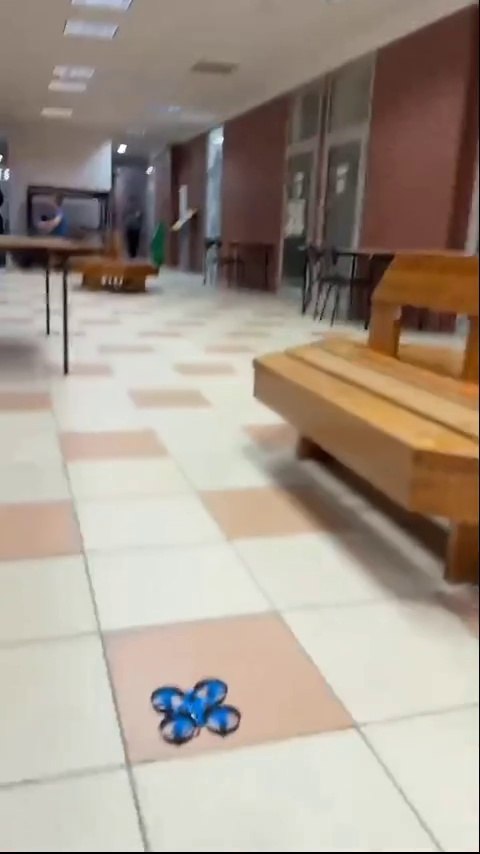drone: (152, 685, 236, 740)
no vest: (33, 183, 68, 252), (119, 195, 152, 267)
